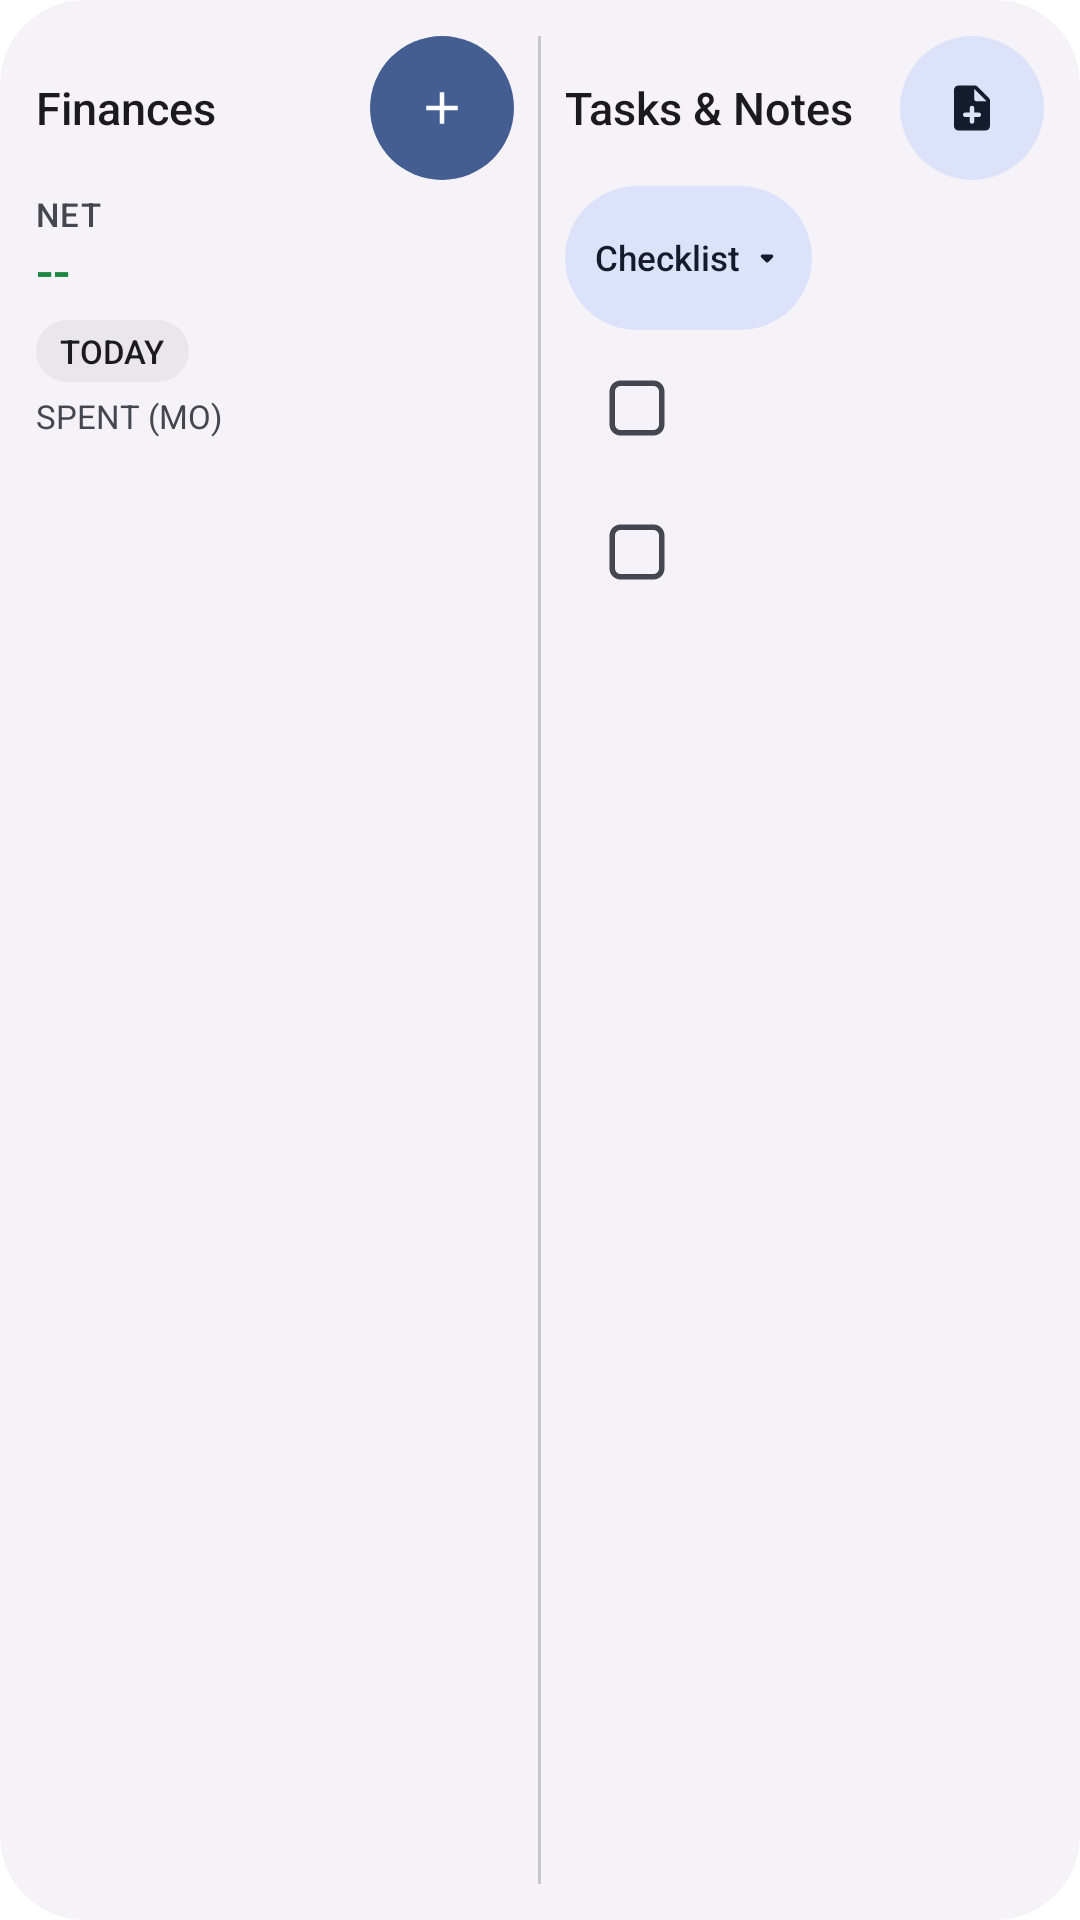

Screen size 1080w x 1920h. Icon name, then its box in pixels as [x1, y1, x2, y2]:
Add Transaction: [426, 92, 458, 124]
New Note: [954, 85, 990, 131]
